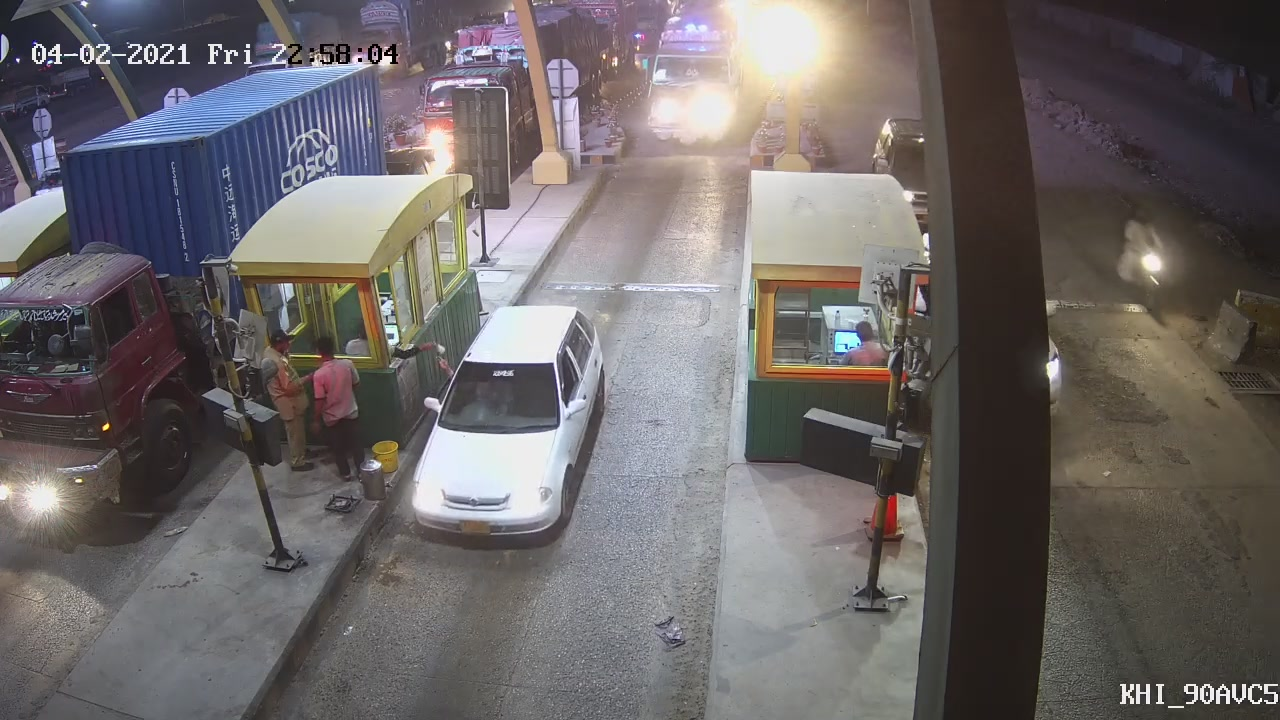F1: (405, 300, 610, 541)
